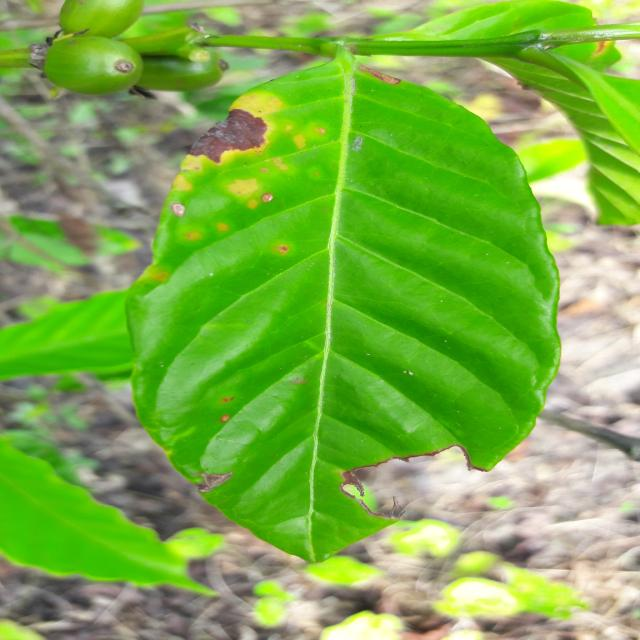Enfermedad-Roya: (126, 74, 563, 565)
